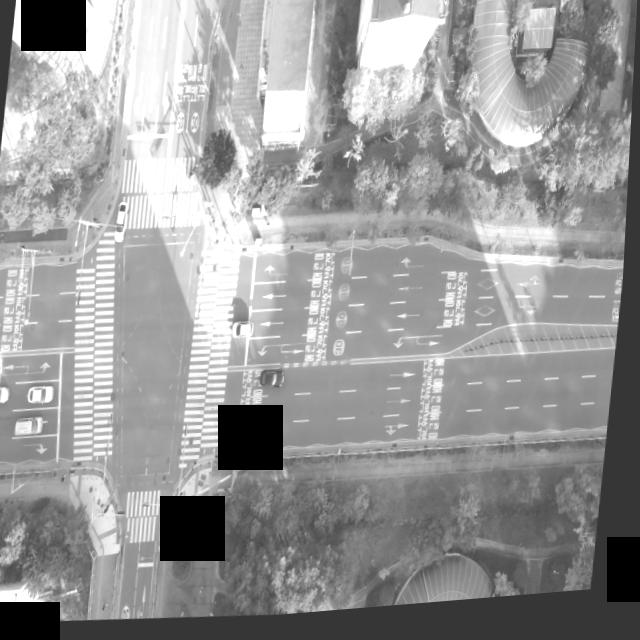car: (17, 414, 49, 440), (118, 204, 132, 246), (33, 387, 59, 406), (263, 374, 287, 392), (236, 325, 258, 343), (0, 387, 11, 406), (562, 0, 575, 15)
